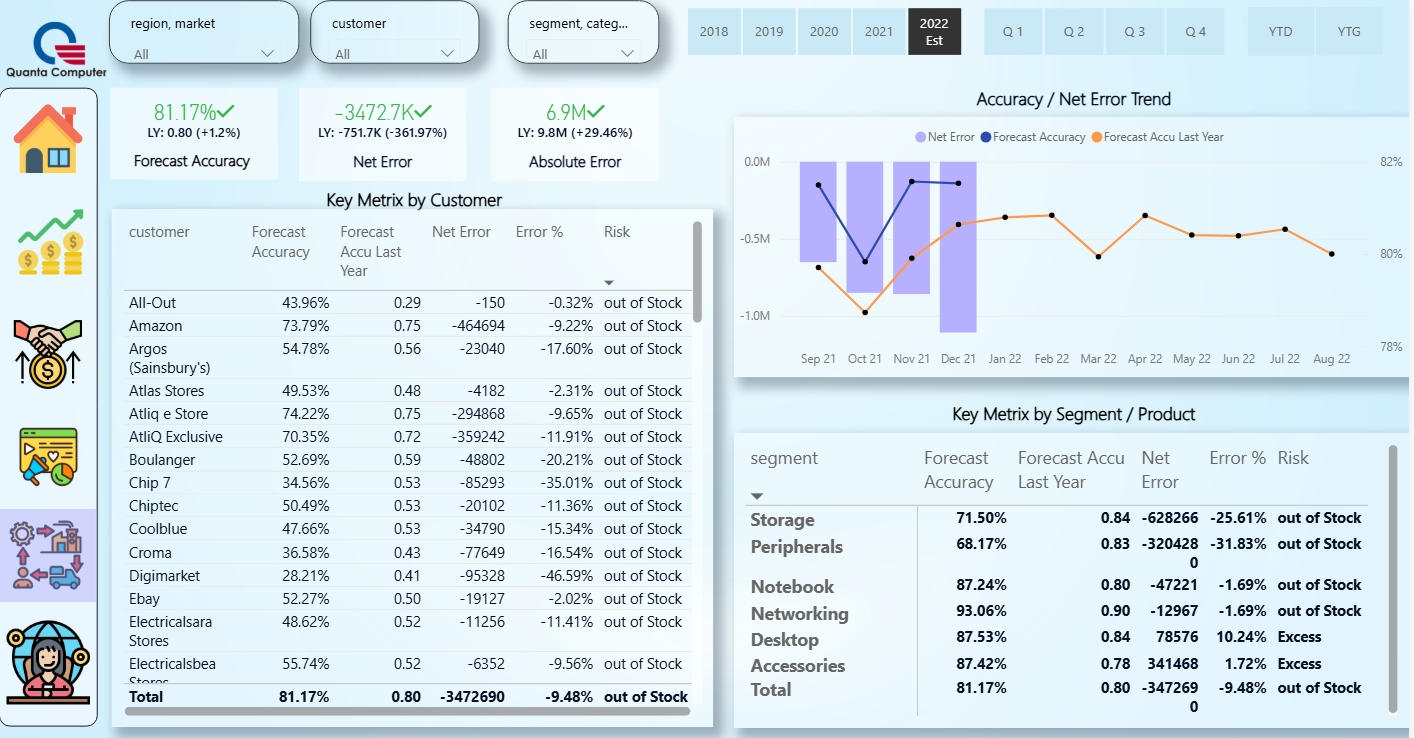

Layout of this report page (visuals, bound fields, positions):
{"tool":"powerbi","page":{"name":"Supply Chain View","canvas":[1280,720],"ordinal":4},"visuals":[{"type":"slicer","fields":{"Values":["Fiscal_year.Est Fy"]},"box":[599.6,1.2,298,56.7],"z":0},{"type":"slicer","fields":{"Values":["dim_date.Quater"]},"box":[868.6,1.2,269,56.7],"z":1000},{"type":"slicer","fields":{"Values":["dim_date.ytd_ytg"]},"box":[1107.5,0,172.5,57.9],"z":2000},{"type":"textbox","box":[101.3,165.3,547.7,39.8],"z":3000},{"type":"slicer","fields":{"Values":["dim_market.region","dim_customer.market"]},"box":[100.1,1.2,172.5,57.9],"z":4000},{"type":"slicer","fields":{"Values":["dim_product.segment","dim_product.category","dim_product.product"]},"box":[462.1,1.2,137.5,57.9],"z":5000},{"type":"slicer","fields":{"Values":["dim_customer.customer"]},"box":[282.3,1.2,153.2,57.9],"z":6000},{"type":"kpi","fields":{"TrendLine":["dim_date.Fiscal"],"Indicator":["key Measure.Forecast Accuracy"],"Goal":["key Measure.Forecast Accu Last Year"]},"box":[101.3,80.8,152,83.2],"z":7000},{"type":"textbox","box":[101.3,131.5,152,31.4],"z":8000},{"type":"kpi","fields":{"TrendLine":["dim_date.Fiscal"],"Goal":["key Measure.Net Error LY"],"Indicator":["key Measure.Net Error"]},"box":[272.7,80.8,152,84.5],"z":9000},{"type":"kpi","fields":{"TrendLine":["dim_date.Fiscal"],"Indicator":["key Measure.ABS Error"],"Goal":["key Measure.Absoulte Error LY"]},"box":[447.6,80.8,152,84.5],"z":10000},{"type":"textbox","box":[272.7,132.7,152,32.6],"z":11000},{"type":"textbox","box":[447.6,132.7,152,32.6],"z":12000},{"type":"image","box":[2.4,0,100.1,92.9],"z":13000},{"type":"shape","box":[0,80.8,89.3,580.3],"z":14000},{"type":"image","box":[1.2,285.9,86.9,73.6],"z":15000},{"type":"image","box":[4.8,185.8,84.5,68.8],"z":16000},{"type":"image","box":[4.8,90.5,79.6,72.4],"z":17000},{"type":"image","box":[4.8,380,80.8,71.2],"z":18000},{"type":"image","box":[0,466.9,86.9,77.2],"z":19000},{"type":"shape","box":[0,463.3,88.1,84.5],"z":20000},{"type":"tableEx","fields":{"Values":["dim_customer.customer","key Measure.Forecast Accuracy","key Measure.Forecast Accu Last Year","key Measure.Net Error","key Measure.Error %","key Measure.Risk"]},"box":[102.5,190.6,546.5,470.5],"z":21000},{"type":"pivotTable","fields":{"Rows":["dim_product.segment","dim_product.category","dim_product.product"],"Values":["key Measure.Forecast Accuracy","key Measure.Forecast Accu Last Year","key Measure.Net Error","key Measure.Error %","key Measure.Risk"]},"box":[667.2,393.3,612.9,267.8],"z":22000},{"type":"textbox","box":[667.2,359.5,612.9,39.8],"z":23000},{"type":"textbox","box":[667.2,73.6,612.9,39.8],"z":24000},{"type":"lineClusteredColumnComboChart","fields":{"Category":["dim_date.Start of Month"],"Y2":["key Measure.Forecast Accuracy","key Measure.Forecast Accu Last Year"],"Y":["key Measure.Net Error"]},"box":[667.2,106.2,612.9,236.5],"z":25000},{"type":"image","box":[0,558.6,89.3,88.1],"z":26000}]}

Visuals, with their boxes on the page's 1280x720 design canvas (x1, y1, x2, y2). These are canvas units, not pixel positions in the 1414x738 screenshot, which may show the page scaled, cropped or inside an application window:
slicer - Fiscal_year.Est Fy: <box>600,1,898,58</box>
slicer - dim_date.Quater: <box>869,1,1138,58</box>
slicer - dim_date.ytd_ytg: <box>1108,0,1280,58</box>
textbox: <box>101,165,649,205</box>
slicer - dim_market.region x dim_customer.market: <box>100,1,273,59</box>
slicer - dim_product.segment x dim_product.category: <box>462,1,600,59</box>
slicer - dim_customer.customer: <box>282,1,436,59</box>
kpi - dim_date.Fiscal x key Measure.Forecast Accuracy: <box>101,81,253,164</box>
textbox: <box>101,132,253,163</box>
kpi - dim_date.Fiscal x key Measure.Net Error LY: <box>273,81,425,165</box>
kpi - dim_date.Fiscal x key Measure.ABS Error: <box>448,81,600,165</box>
textbox: <box>273,133,425,165</box>
textbox: <box>448,133,600,165</box>
image: <box>2,0,102,93</box>
shape: <box>0,81,89,661</box>
image: <box>1,286,88,360</box>
image: <box>5,186,89,255</box>
image: <box>5,90,84,163</box>
image: <box>5,380,86,451</box>
image: <box>0,467,87,544</box>
shape: <box>0,463,88,548</box>
tableEx - dim_customer.customer x key Measure.Forecast Accuracy: <box>102,191,649,661</box>
pivotTable - dim_product.segment x dim_product.category: <box>667,393,1280,661</box>
textbox: <box>667,360,1280,399</box>
textbox: <box>667,74,1280,113</box>
lineClusteredColumnComboChart - dim_date.Start of Month x key Measure.Forecast Accuracy: <box>667,106,1280,343</box>
image: <box>0,559,89,647</box>
